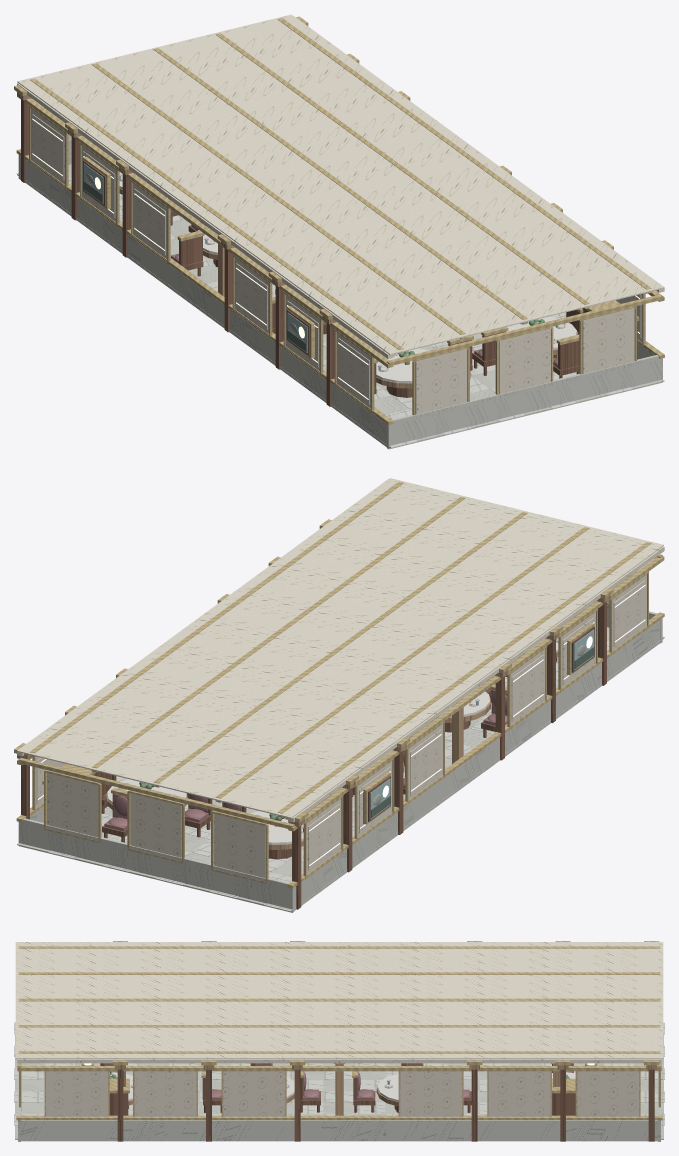
File: dining.gltf
3 views of the same model, one above another, from view 1: azimuth 30°, elevation 25°; view 2: azimuth 150°, elevation 25°; view 3: azimuth 270°, elevation 25° (orthographic). The views are drawn at different scales.
Parts seen in each view (by area): view 1: ivory, gold, marble, cream, oakdark, tile, white, oak, sky; view 2: ivory, gold, cream, marble, oakdark, tile, oak, wine, white, sky; view 3: ivory, gold, marble, cream, oakdark, tile, oak, wine, white.
Part boxes in pixels (x1,y1,x2,y2): ivory: [17, 14, 664, 370]; gold: [14, 16, 664, 424]; marble: [17, 137, 664, 449]; cream: [30, 108, 642, 414]; oakdark: [21, 99, 637, 406]; tile: [16, 173, 632, 447]; white: [119, 172, 576, 383]; oak: [17, 92, 577, 388]; sky: [83, 163, 307, 353]; ivory: [17, 478, 664, 831]; gold: [14, 481, 664, 888]; cream: [35, 574, 646, 877]; marble: [17, 601, 664, 912]; oakdark: [21, 602, 606, 909]; tile: [48, 636, 664, 911]; oak: [17, 595, 610, 849]; wine: [102, 615, 576, 831]; white: [107, 624, 564, 844]; sky: [370, 629, 594, 819]; ivory: [15, 942, 663, 1087]; gold: [16, 941, 662, 1120]; marble: [15, 1034, 663, 1141]; cream: [45, 1071, 640, 1116]; oakdark: [100, 1063, 654, 1141]; tile: [14, 1022, 664, 1125]; oak: [115, 1064, 656, 1115]; wine: [104, 1063, 572, 1099]; white: [109, 1072, 575, 1101].
Bounding box in the file's own units: 9.28 × 2.99 × 20.96.
19 materials, 19 textured.
